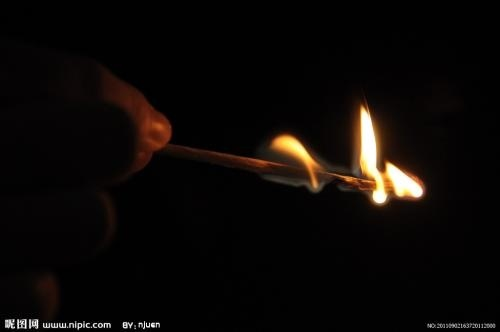fire: (354, 99, 424, 201), (267, 131, 321, 187)
